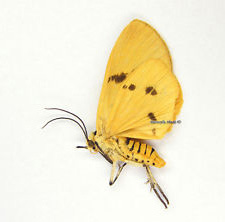Agape chloropyga: (40, 19, 185, 210)
moth: (40, 18, 185, 209)
